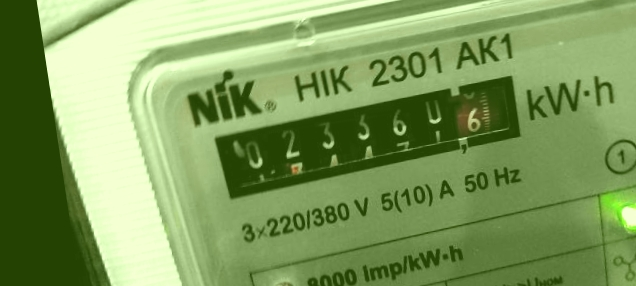0: (240, 134, 267, 171), (419, 93, 445, 127)
2: (278, 124, 302, 159)
3: (350, 106, 373, 141), (313, 117, 336, 151)
6: (460, 100, 486, 136), (385, 102, 410, 138)
screen: (194, 62, 542, 207)
